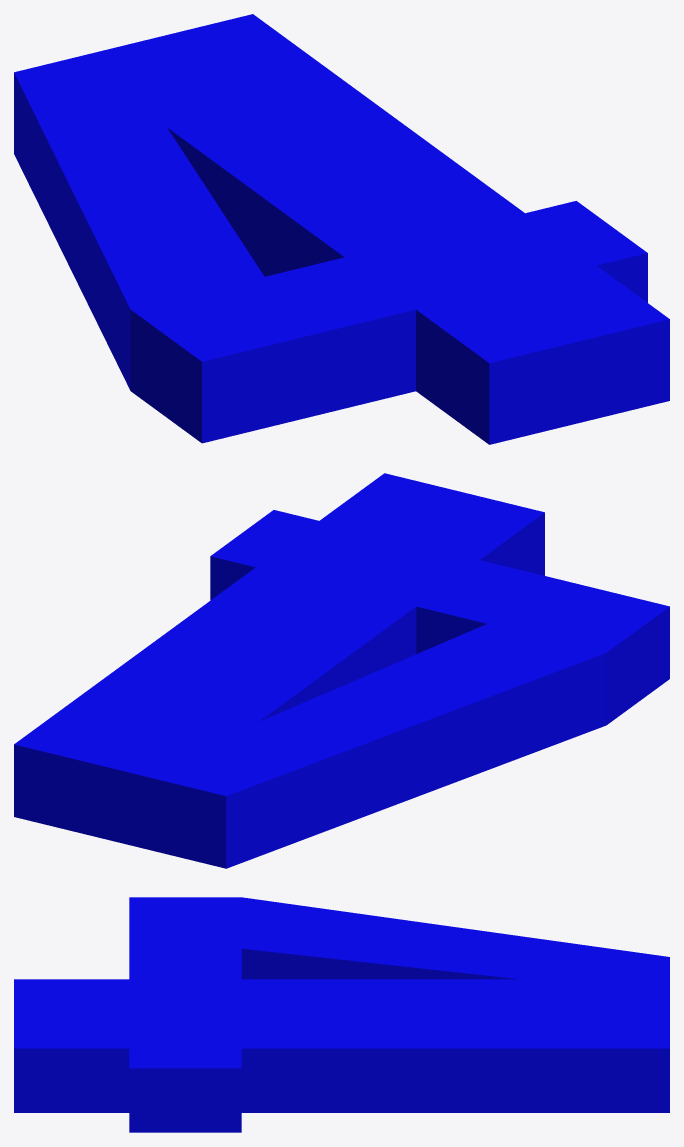
The model's file is Four.FBX.
3 views of the same model, one above another, from view 1: azimuth 30°, elevation 25°; view 2: azimuth 150°, elevation 25°; view 3: azimuth 270°, elevation 25° (orthographic). The views are drawn at different scales.
Parts seen in each view (by area): view 1: Text001; view 2: Text001; view 3: Text001.
Part boxes in pixels (x1,y1,x2,y2): Text001: (14, 14, 669, 444); Text001: (14, 473, 669, 868); Text001: (14, 897, 669, 1132).
Size of the model in its own units: 40 by 7 by 64.8.
